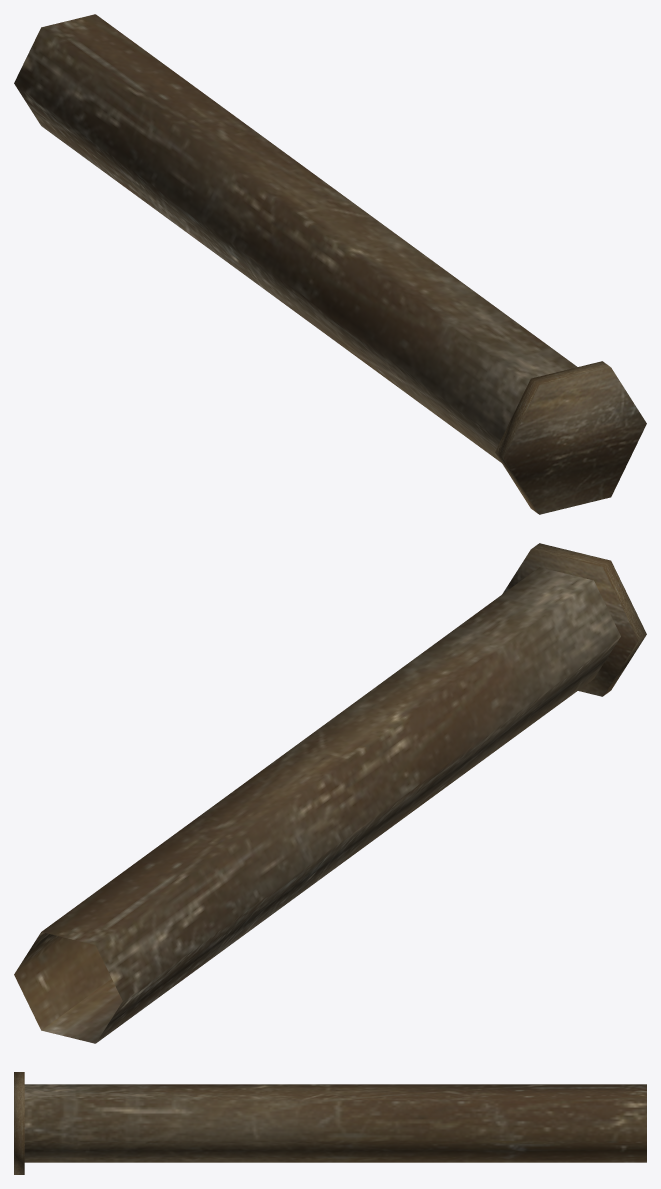
Rendered from small_brown_2.fbx.
3 views of the same model, one above another, from view 1: azimuth 30°, elevation 25°; view 2: azimuth 150°, elevation 25°; view 3: azimuth 270°, elevation 25° (orthographic). The views are drawn at different scales.
Visible parts, largest first — view 1: polySurface665; view 2: polySurface665; view 3: polySurface665.
Part boxes in pixels (x1,y1,x2,y2): polySurface665: (14, 14, 646, 514); polySurface665: (14, 543, 646, 1043); polySurface665: (14, 1072, 646, 1174).
Size of the model in its own units: 0.3294 by 0.2853 by 2.02.
